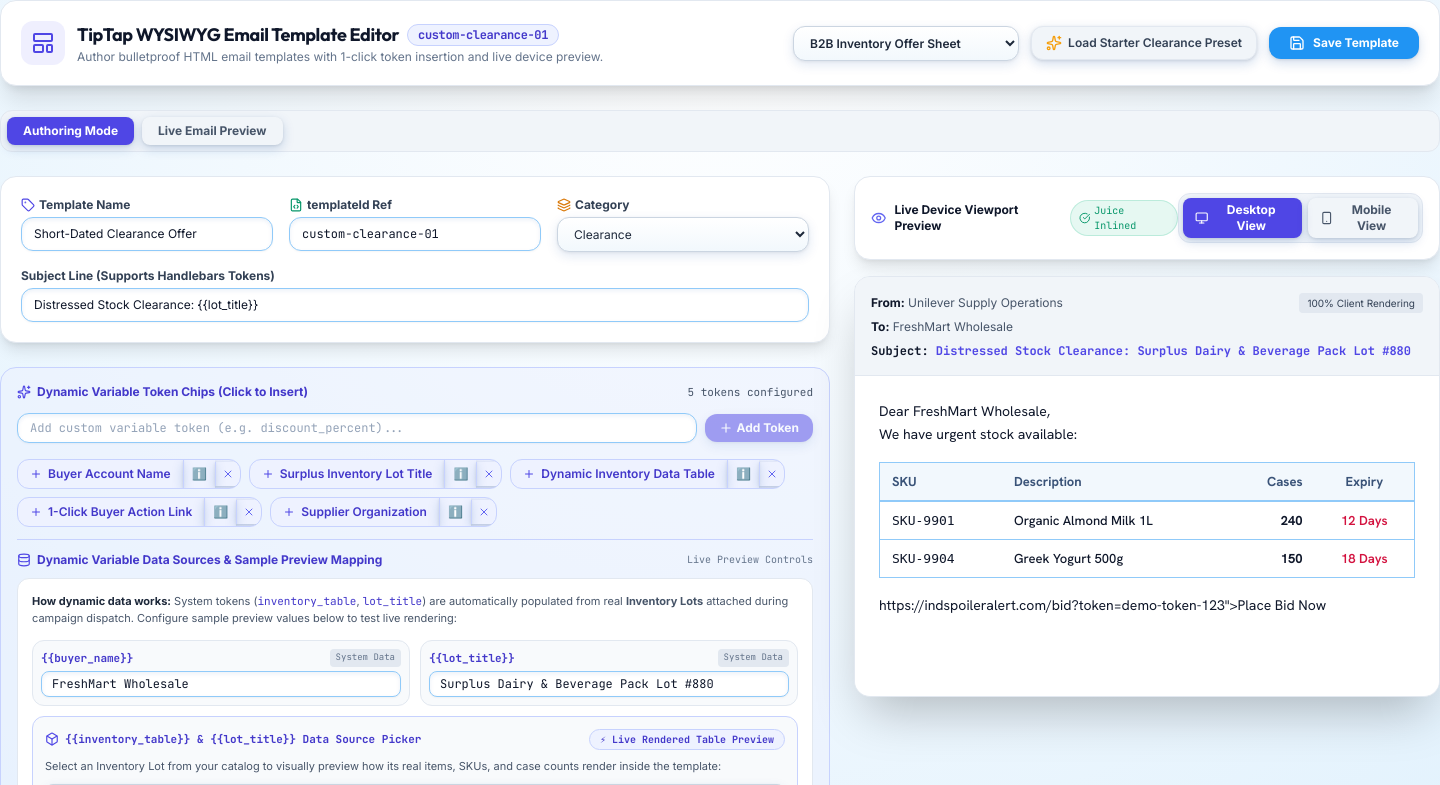
07 — TipTap Rich Editor Light Theme (TipTapTemplateEditor) › Seam 1: TipTapTemplateEditor Header Bar, Preset Select & Overwrite Modal Light Theme › renders overwrite confirmation modal with white card background and dark text when preset is changed with existing content
Select "Short-Dated Flash Sale" in the dropdown with test id "template-picker-select" at {"x": 906, "y": 43}, box [793,26,1019,60]
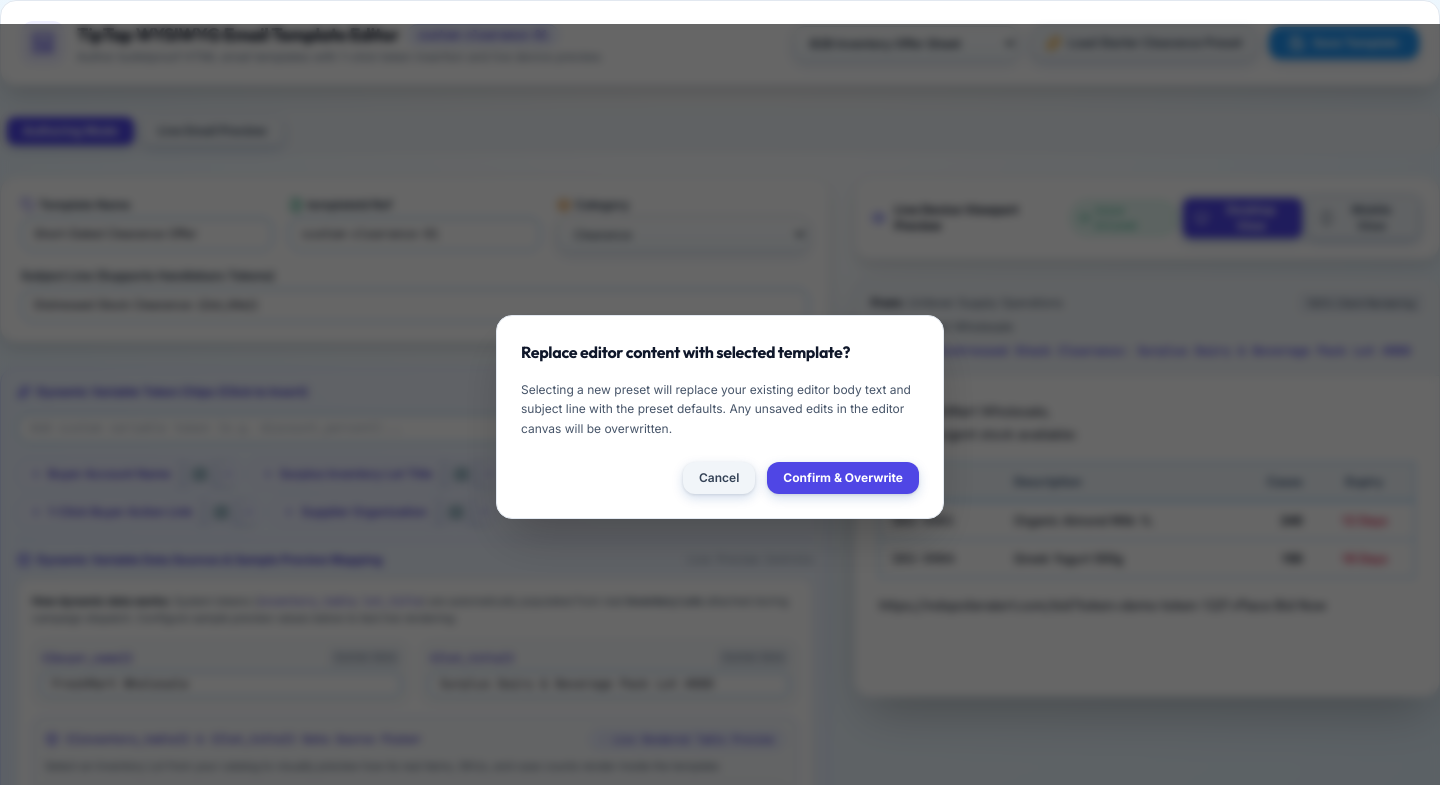
Now the text "Replace editor content with selected template?" is shown, box [521,342,850,362]
